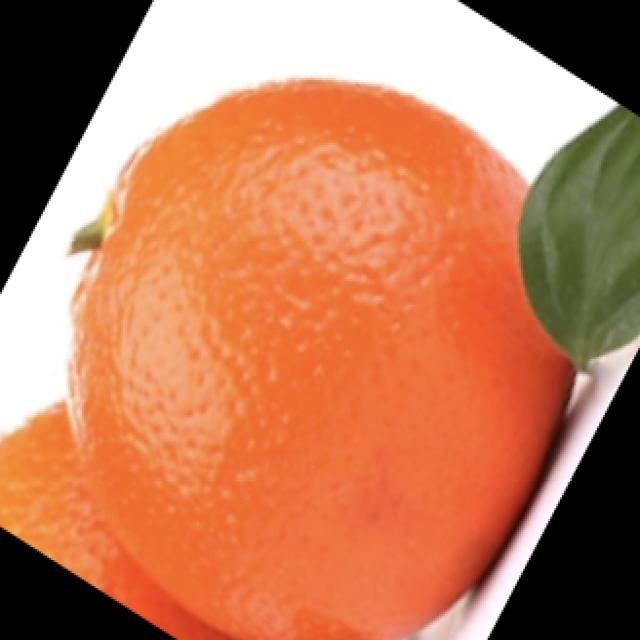fresh: (0, 71, 615, 640)
